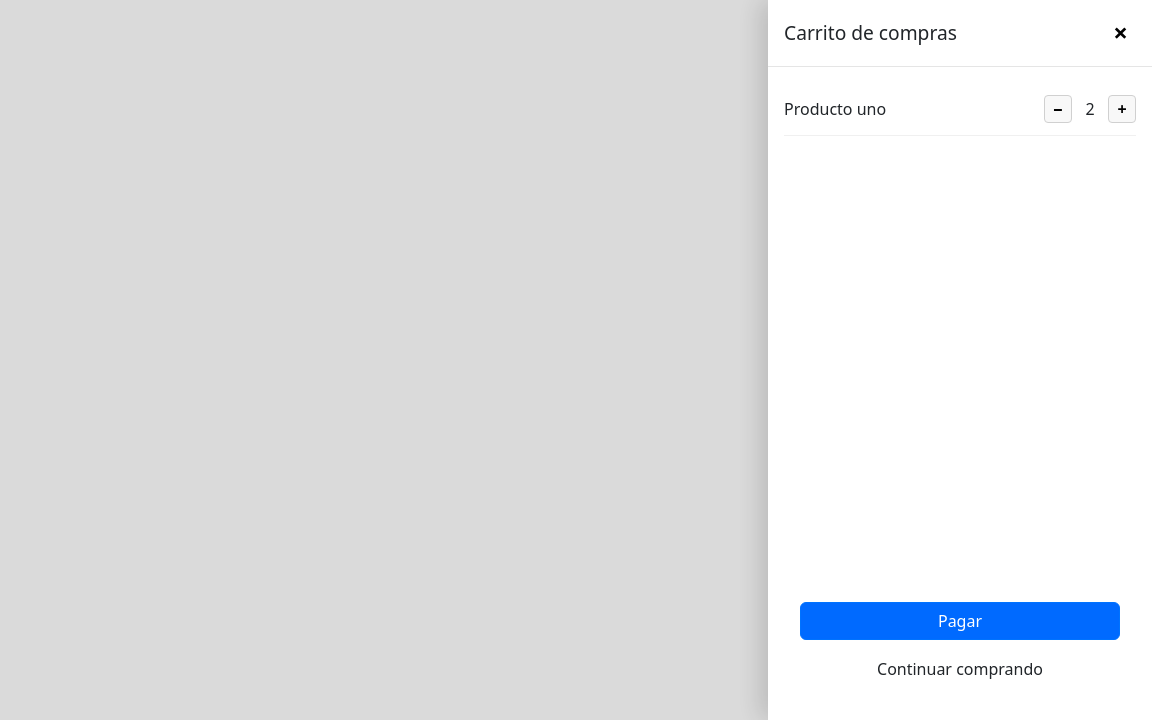
Test: ShoppingCartComponent › el botón disminuir resta una unidad sin eliminar el producto
Click the button named "Disminuir Producto uno" at (1058, 109), box [1044, 95, 1072, 123]
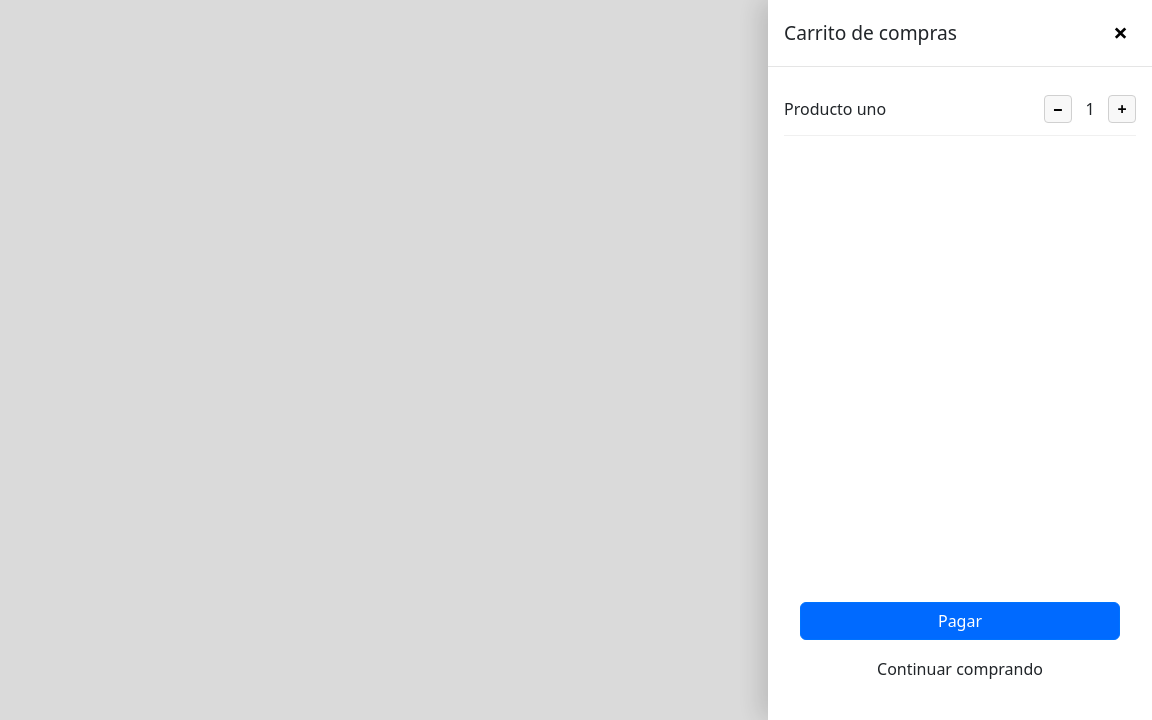
Expected: the text "Producto uno" is shown, [784, 98, 886, 120]
Now the text named "Cantidad de Producto uno" reads "1", box [1085, 98, 1095, 120]
